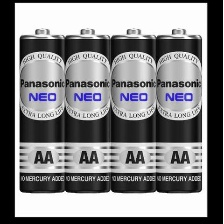battery: (59, 26, 115, 196), (106, 25, 157, 195), (17, 25, 67, 195), (155, 25, 204, 195)
